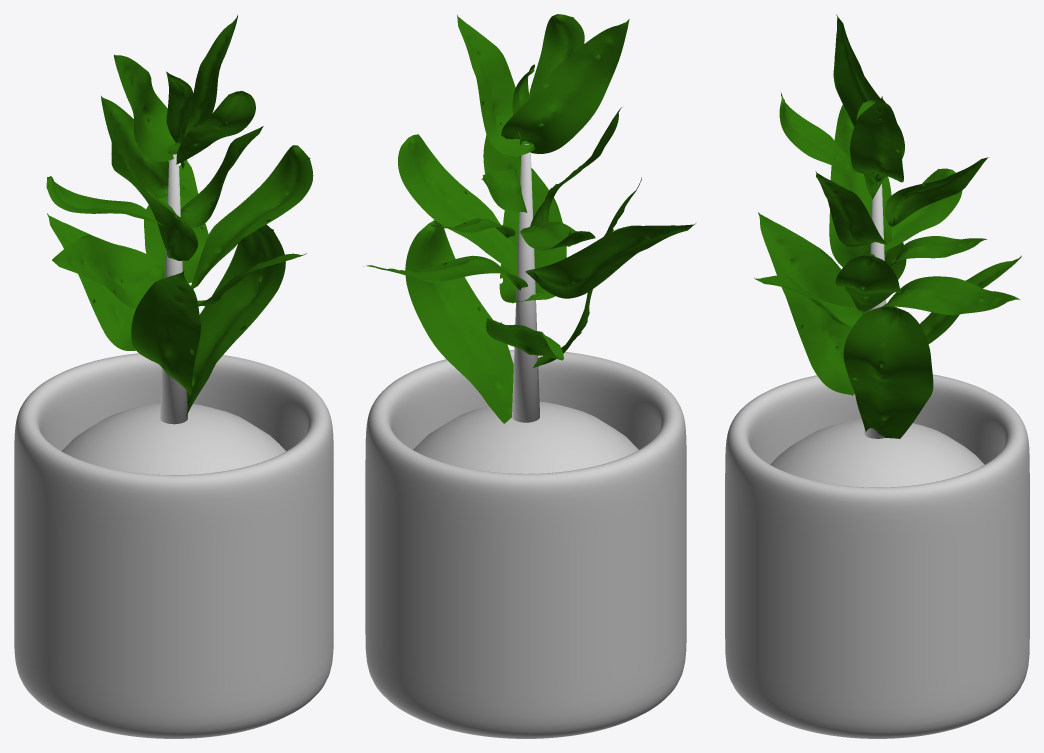
The model's file is plant.fbx.
3 views of the same model, side by side, from view 1: azimuth 30°, elevation 25°; view 2: azimuth 150°, elevation 25°; view 3: azimuth 270°, elevation 25° (orthographic). The views are drawn at different scales.
Parts seen in each view (by area): view 1: pot, leaves, soil, stem; view 2: pot, leaves, soil, stem; view 3: pot, leaves, soil, stem.
Boxes of the visible parts, bbox=[...] form: pot: bbox=[14, 353, 333, 738]; leaves: bbox=[46, 15, 313, 416]; soil: bbox=[61, 403, 286, 474]; stem: bbox=[160, 154, 187, 424]; pot: bbox=[365, 350, 686, 738]; leaves: bbox=[363, 14, 695, 423]; soil: bbox=[413, 401, 638, 473]; stem: bbox=[512, 144, 539, 422]; pot: bbox=[725, 374, 1029, 738]; leaves: bbox=[754, 14, 1021, 438]; soil: bbox=[770, 419, 984, 487]; stem: bbox=[864, 182, 886, 438].
Bounding box in the file's own units: 203 × 469 × 198.
